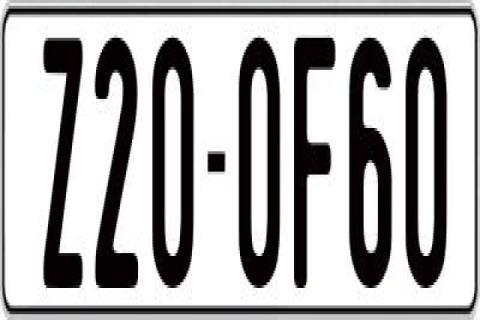0: (95, 32, 143, 300), (402, 29, 450, 294), (239, 29, 287, 279), (346, 32, 388, 300), (150, 32, 192, 288)
F: (292, 38, 340, 288)
Z: (42, 29, 82, 291)
